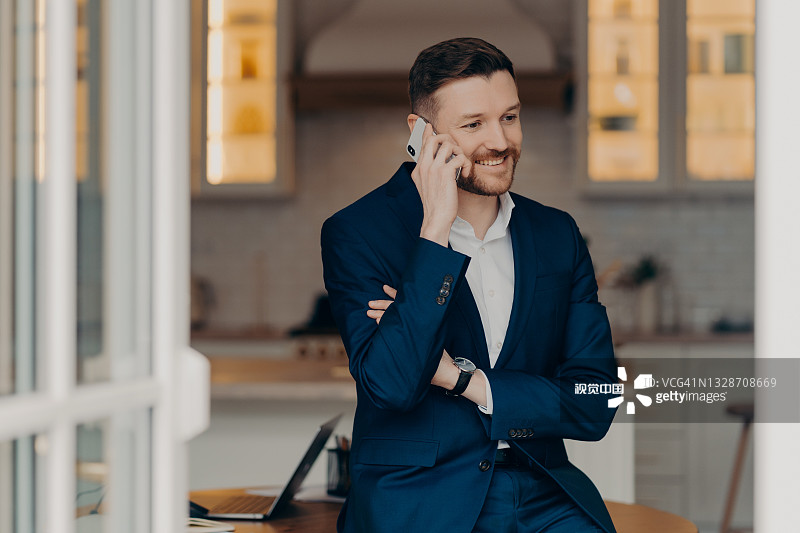calling: (392, 111, 474, 244)
